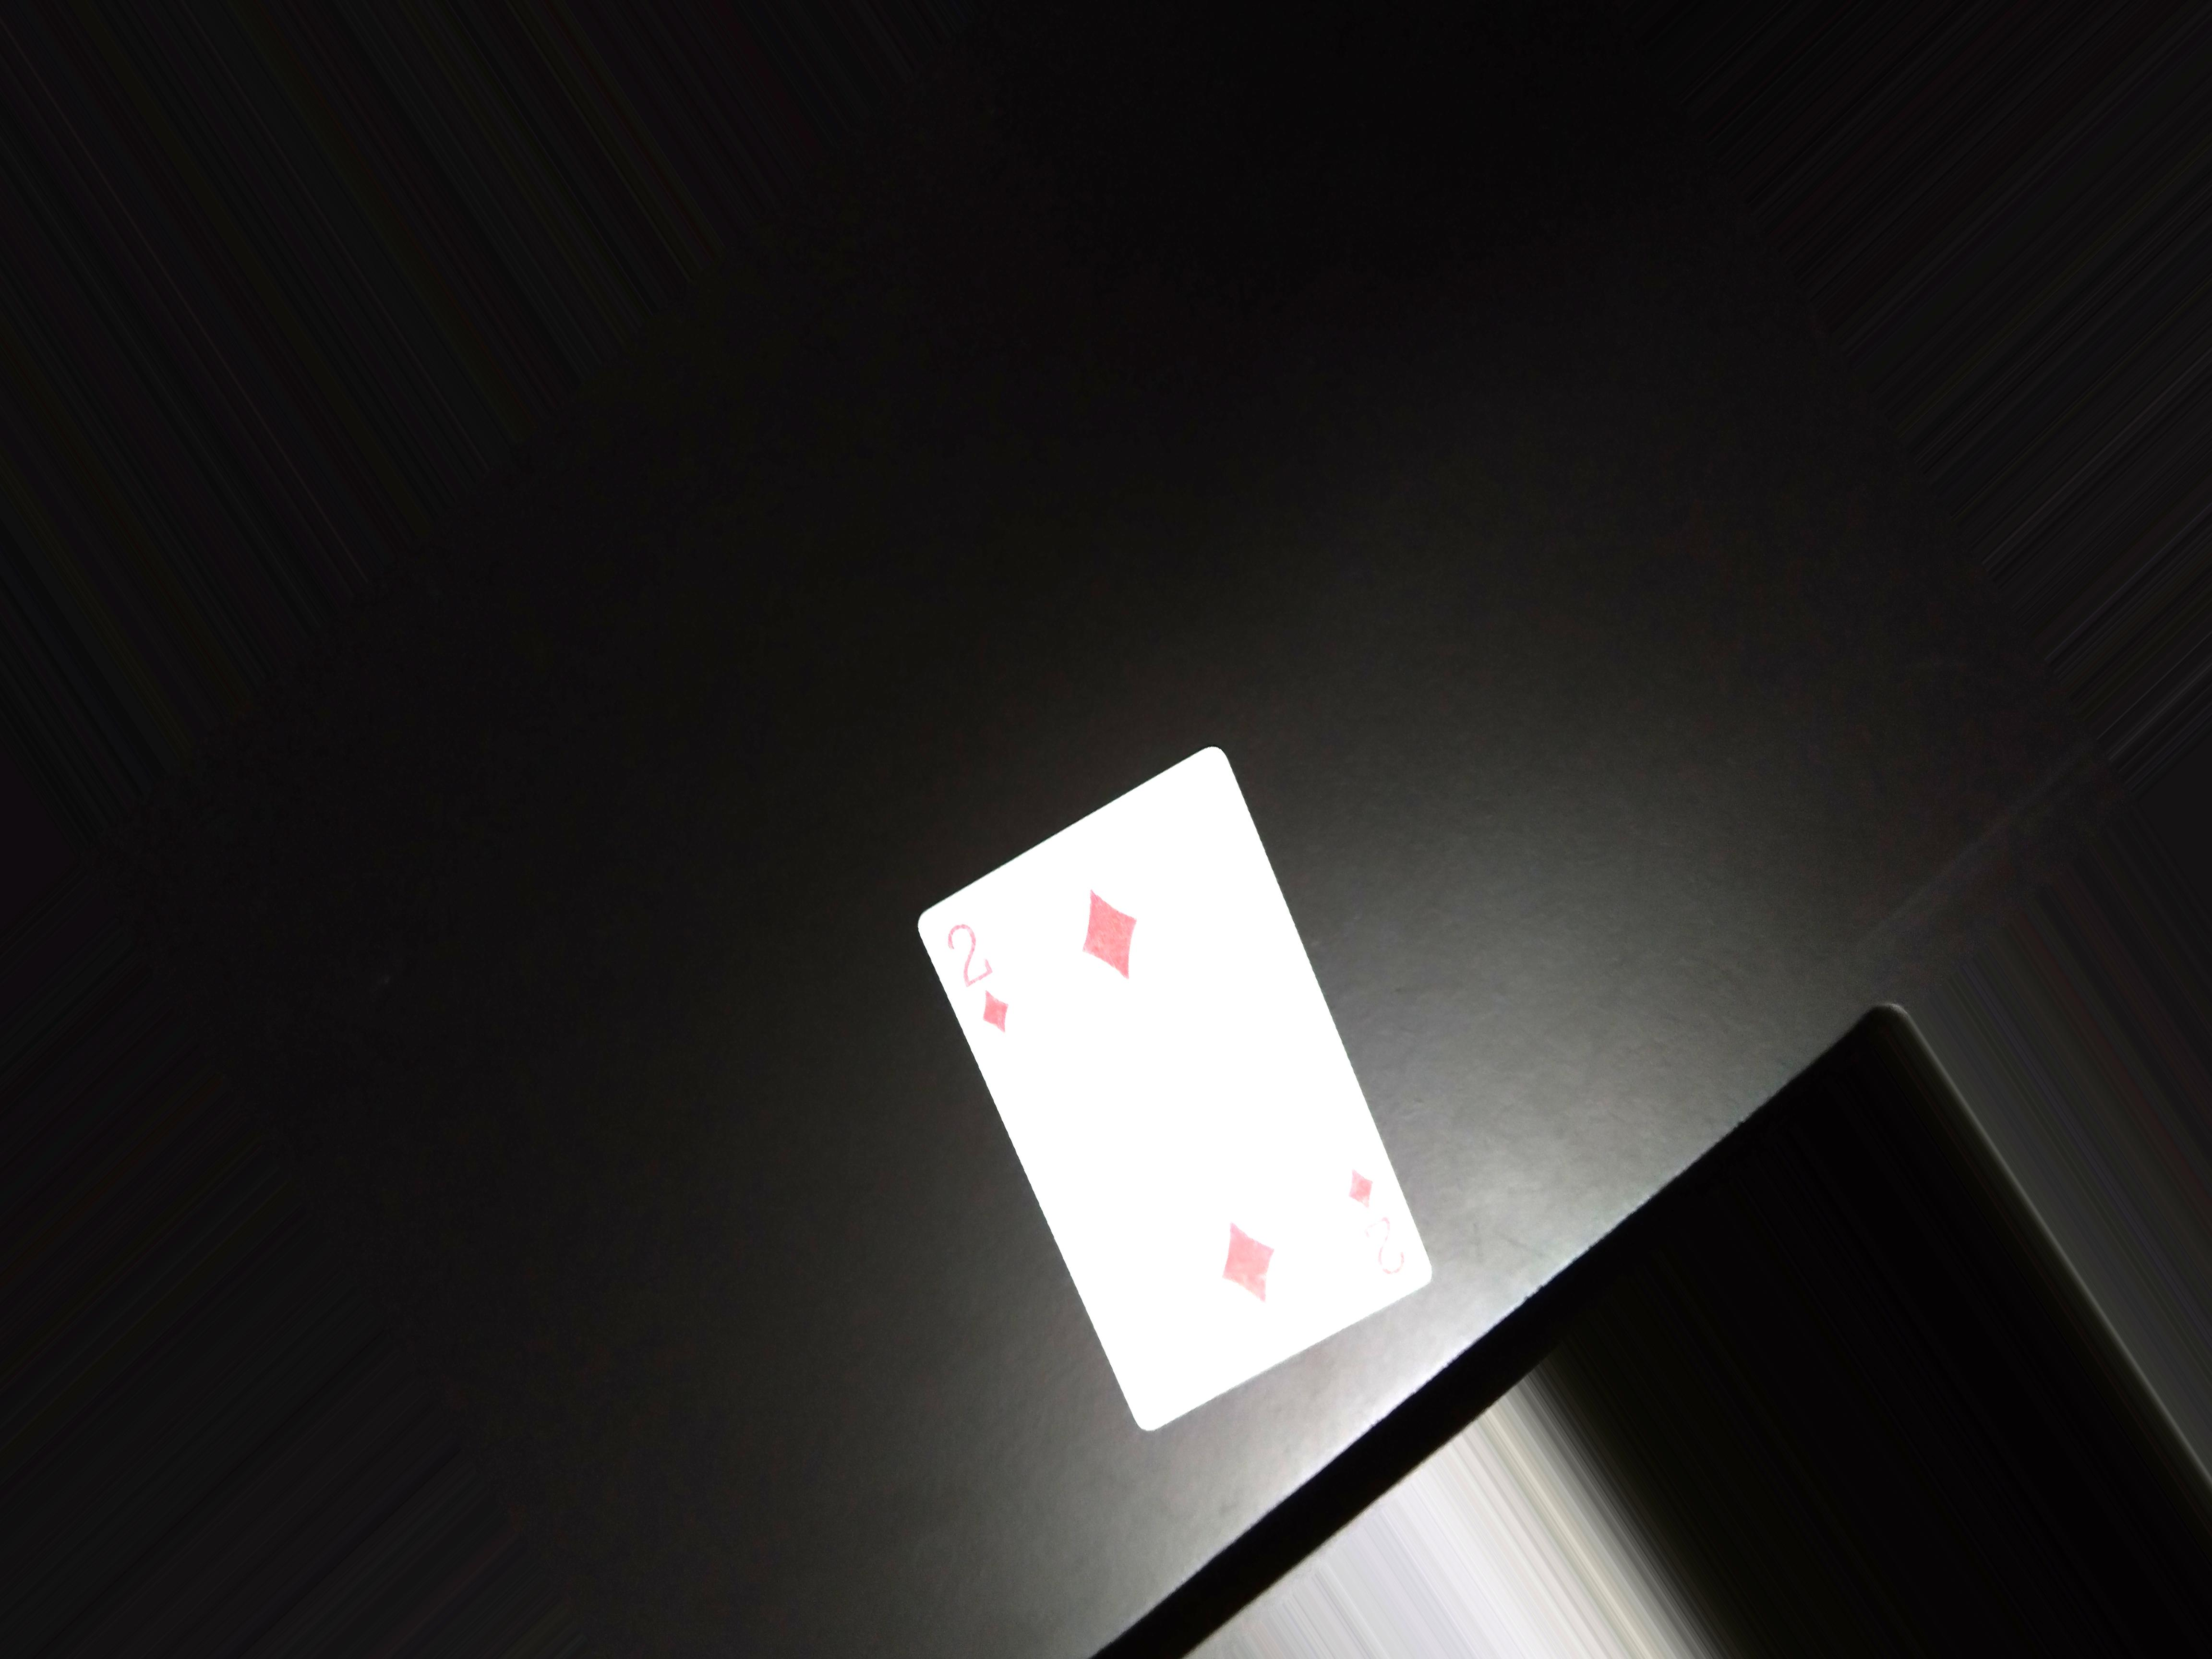2D: (928, 915, 1028, 1037)
